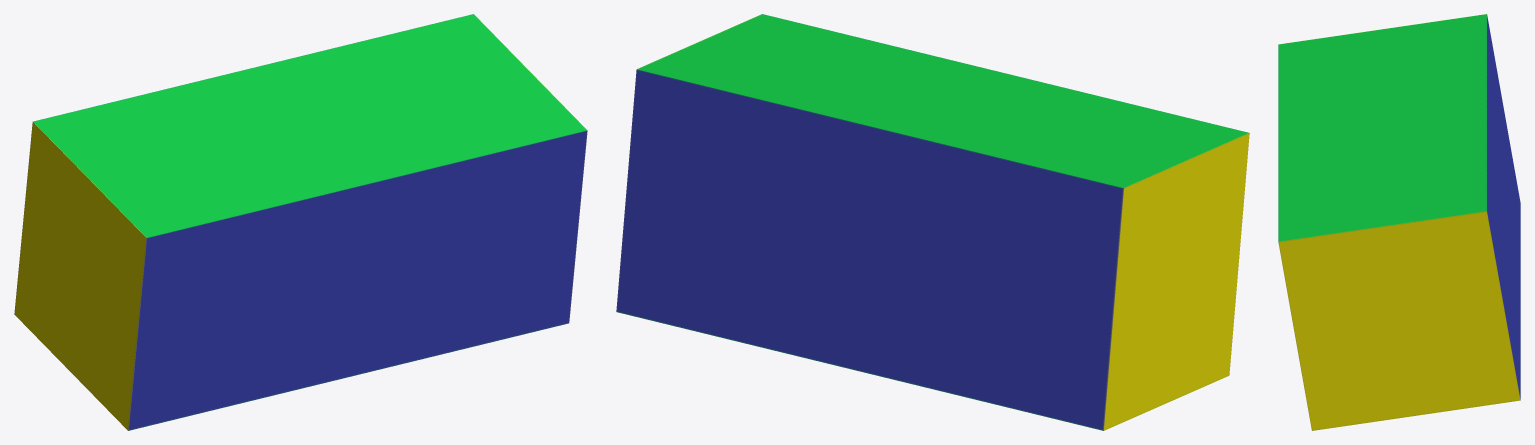
File: bangun_ruang_balok.glb
3 renders of one model, left to right at view 1: azimuth 30°, elevation 25°; view 2: azimuth 150°, elevation 25°; view 3: azimuth 270°, elevation 25°, orthographic. The views are drawn at different scales.
Parts seen in each view (by area): view 1: Object_5; view 2: Object_5; view 3: Object_5.
Part boxes in pixels (left/top/right/bottom): Object_5: left=14, top=14, right=587, bottom=430; Object_5: left=616, top=14, right=1249, bottom=430; Object_5: left=1278, top=14, right=1520, bottom=430.
Size of the model in its own units: 0.4419 by 0.2292 by 0.2292.
1 material, 1 textured.
